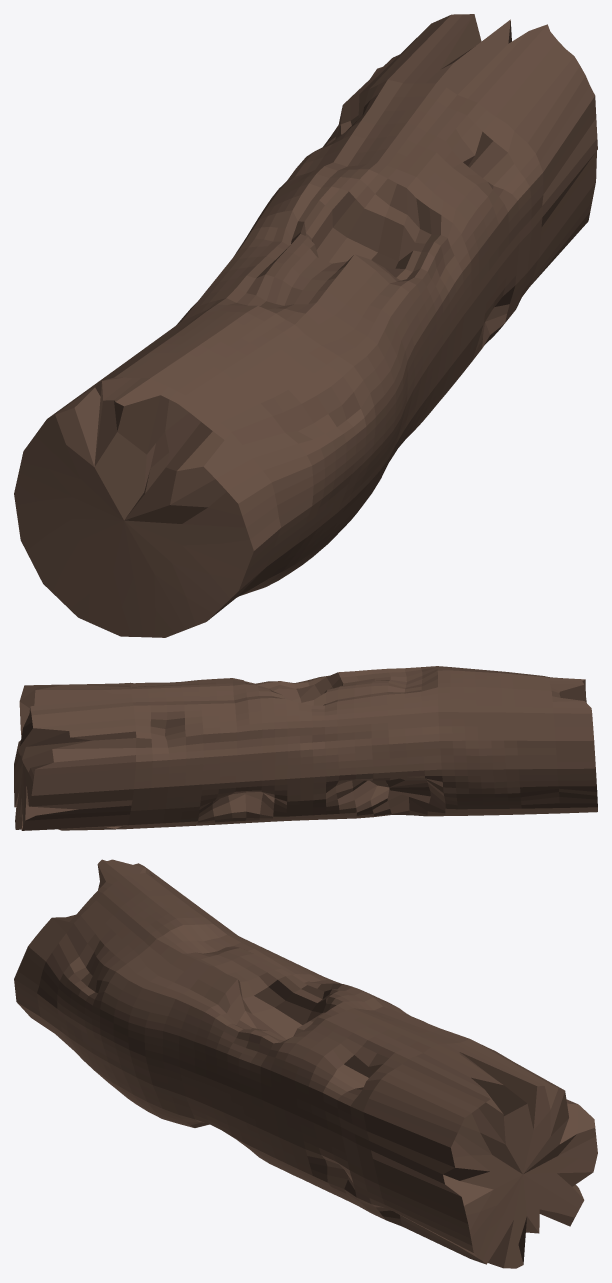
File: Bois.fbx
The picture shows the model from 3 angles, top to bottom: view 1: azimuth 30°, elevation 25°; view 2: azimuth 150°, elevation 25°; view 3: azimuth 270°, elevation 25°; orthographic projection. The views are drawn at different scales.
Visible parts, largest first — view 1: bois; view 2: bois; view 3: bois.
Part boxes in pixels (left/top/right/bottom): bois: left=14, top=14, right=597, bottom=637; bois: left=14, top=666, right=597, bottom=830; bois: left=14, top=859, right=597, bottom=1268.
Size of the model in its own units: 621 by 192 by 542.
